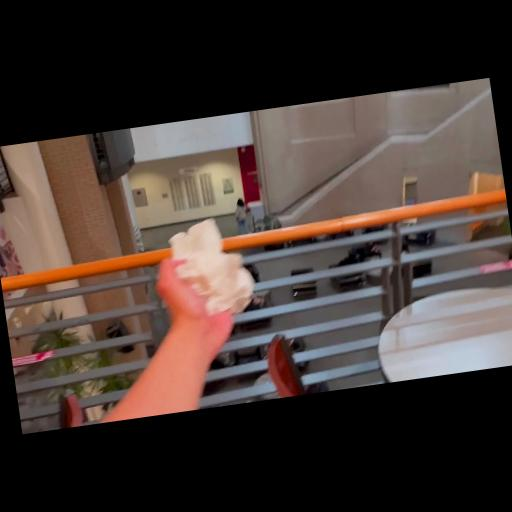napkin: (166, 212, 260, 326)
